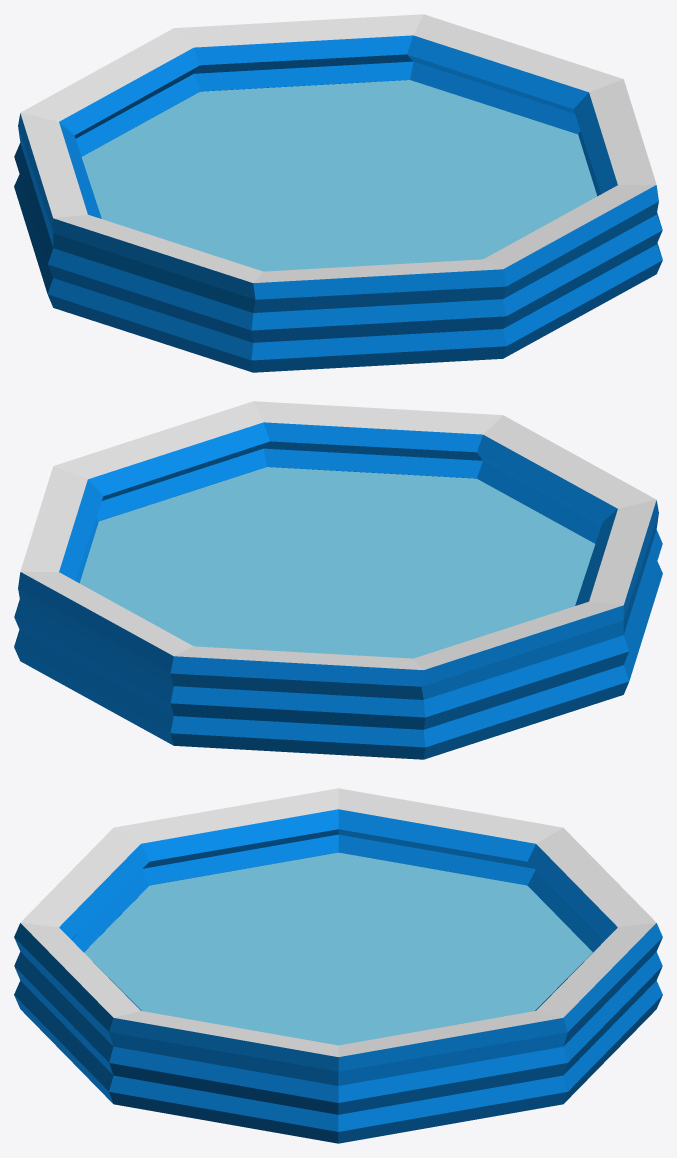
File: pool.fbx
3 views of the same model, one above another, from view 1: azimuth 30°, elevation 25°; view 2: azimuth 150°, elevation 25°; view 3: azimuth 270°, elevation 25° (orthographic). The views are drawn at different scales.
Visible parts, largest first — view 1: Cylinder; view 2: Cylinder; view 3: Cylinder.
Boxes of the visible parts, x1,y1,x2,y2 form: Cylinder: (14, 14, 662, 372); Cylinder: (14, 401, 662, 759); Cylinder: (14, 788, 662, 1143).
Bounding box in the file's own units: 204 × 30 × 204.
